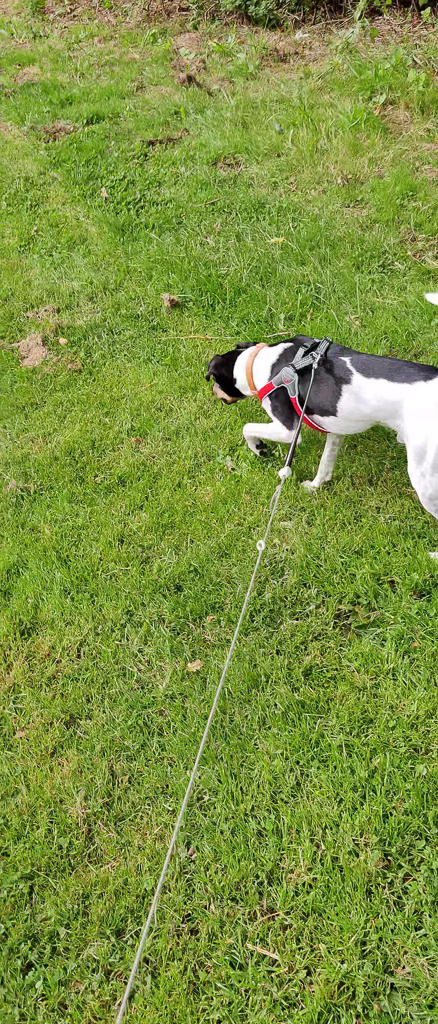Dog: (198, 288, 438, 579)
